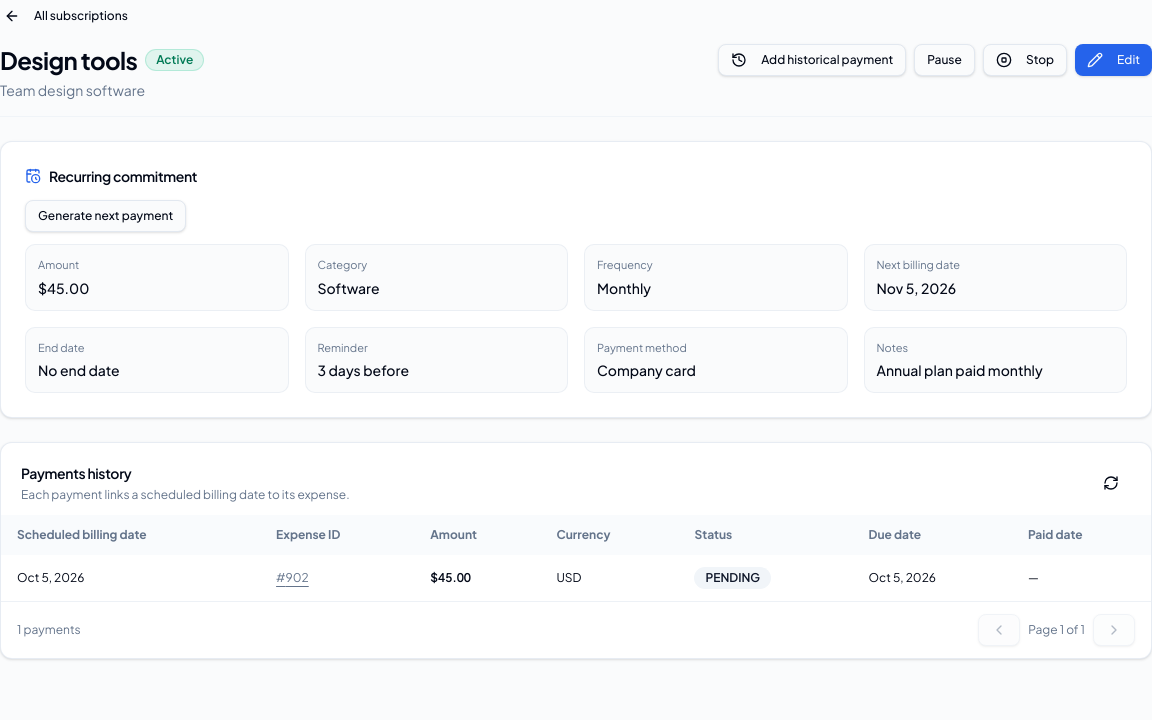
Test: add historical payment on subscription details › submits, shows a success toast, closes, and refreshes history and summary
Expected: the link "#902" is shown, [276,570,309,585]
Expected: the heading "Design tools" is shown, [0,44,137,76]
Click the button "Add historical payment" at point(812, 60), box [718,44,906,76]
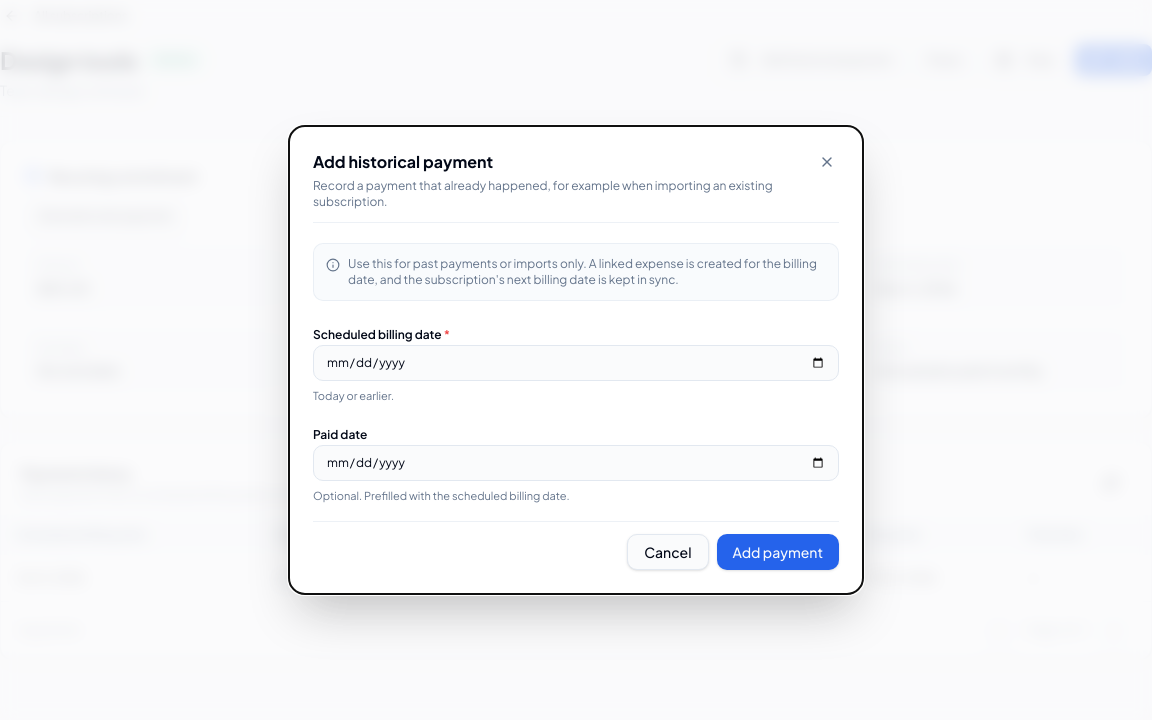
Type "2026-09-05" into the date field labelled "Scheduled billing date*" at point(576, 363), box [313,345,839,381]
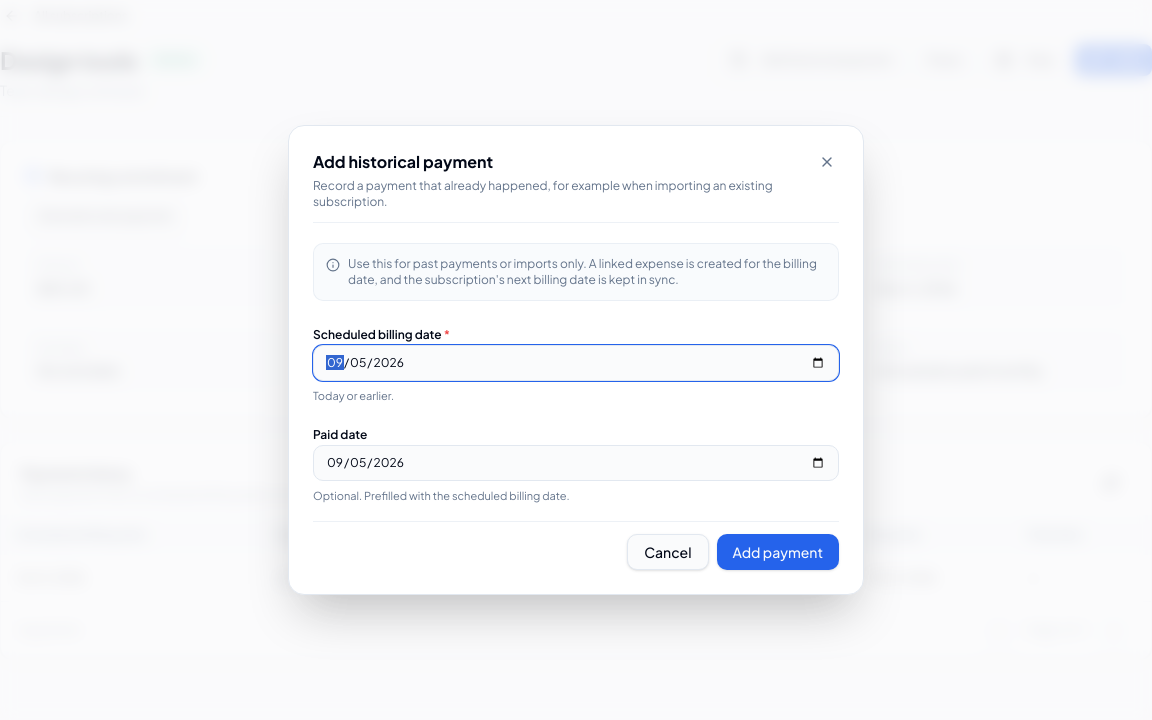
Click the button "Add payment" at point(778, 552), box [716,534,839,570]
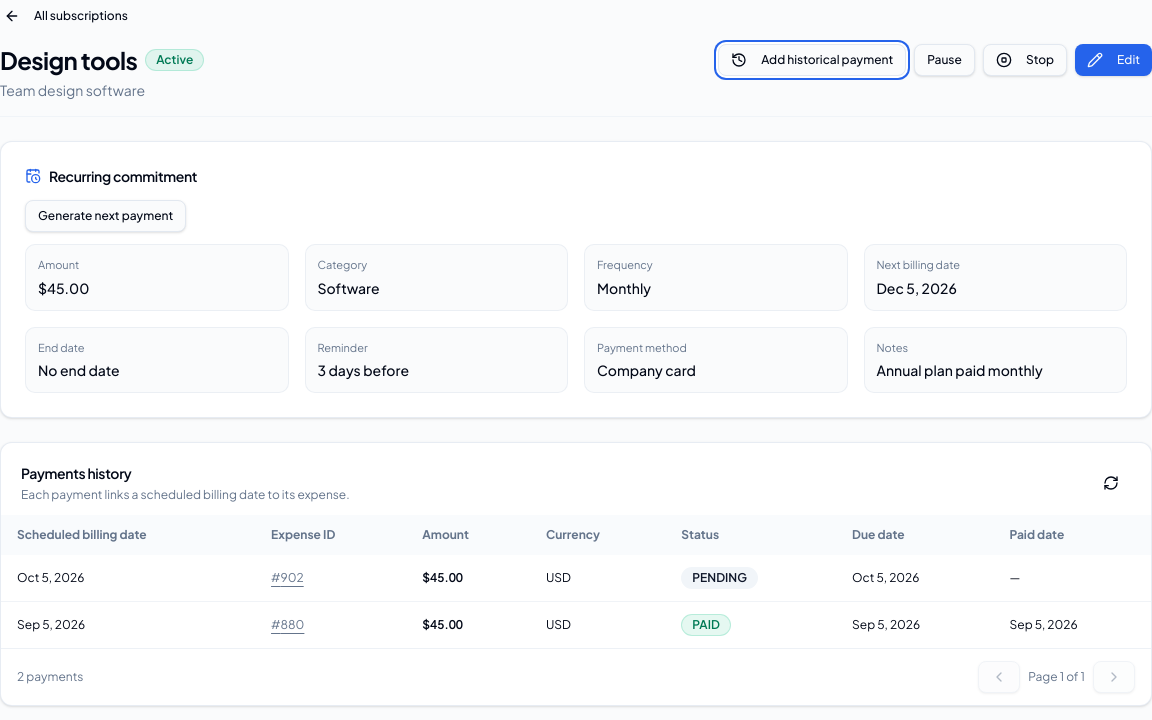
Now the dialog is gone
Now the link "#880" is shown, box [271,617,304,632]
Now the text "Dec 5, 2026" is shown, box [876,278,957,296]
